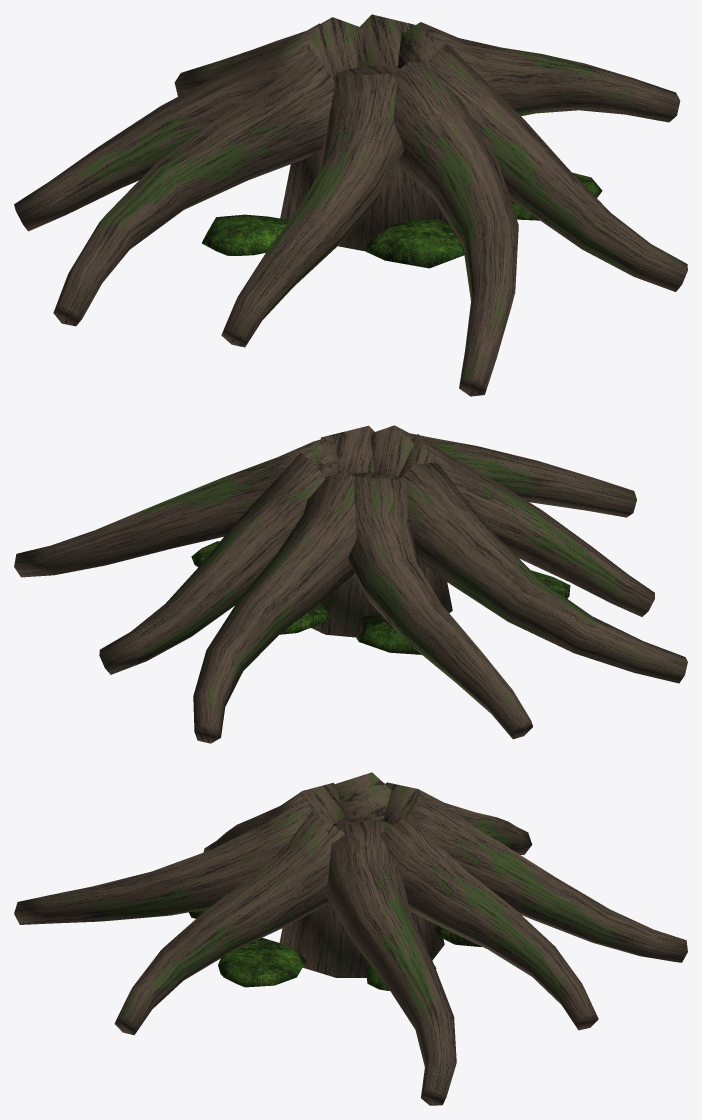
The model's file is Exposed_Roots_A.glb.
The picture shows the model from 3 angles, top to bottom: view 1: azimuth 30°, elevation 25°; view 2: azimuth 150°, elevation 25°; view 3: azimuth 270°, elevation 25°; orthographic projection. The views are drawn at different scales.
Visible parts, largest first — view 1: Exposed_Roots_A__Bark, Exposed_Roots_A__Moss; view 2: Exposed_Roots_A__Bark, Exposed_Roots_A__Moss; view 3: Exposed_Roots_A__Bark, Exposed_Roots_A__Moss.
Part boxes in pixels (x1,y1,x2,y2): Exposed_Roots_A__Bark: (14, 14, 687, 396); Exposed_Roots_A__Moss: (202, 172, 602, 268); Exposed_Roots_A__Bark: (14, 425, 687, 743); Exposed_Roots_A__Moss: (191, 541, 570, 654); Exposed_Roots_A__Bark: (14, 772, 687, 1105); Exposed_Roots_A__Moss: (189, 909, 481, 990).
Size of the model in its own units: 21.45 by 5.86 by 21.17.
2 materials, 2 textured.
